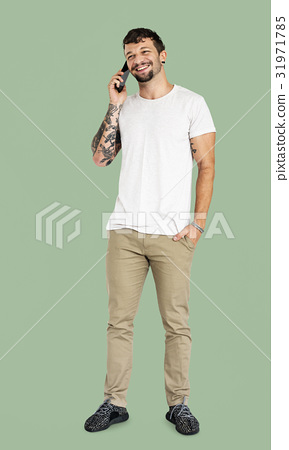phone: (110, 60, 128, 99)
talk: (108, 43, 160, 105)
